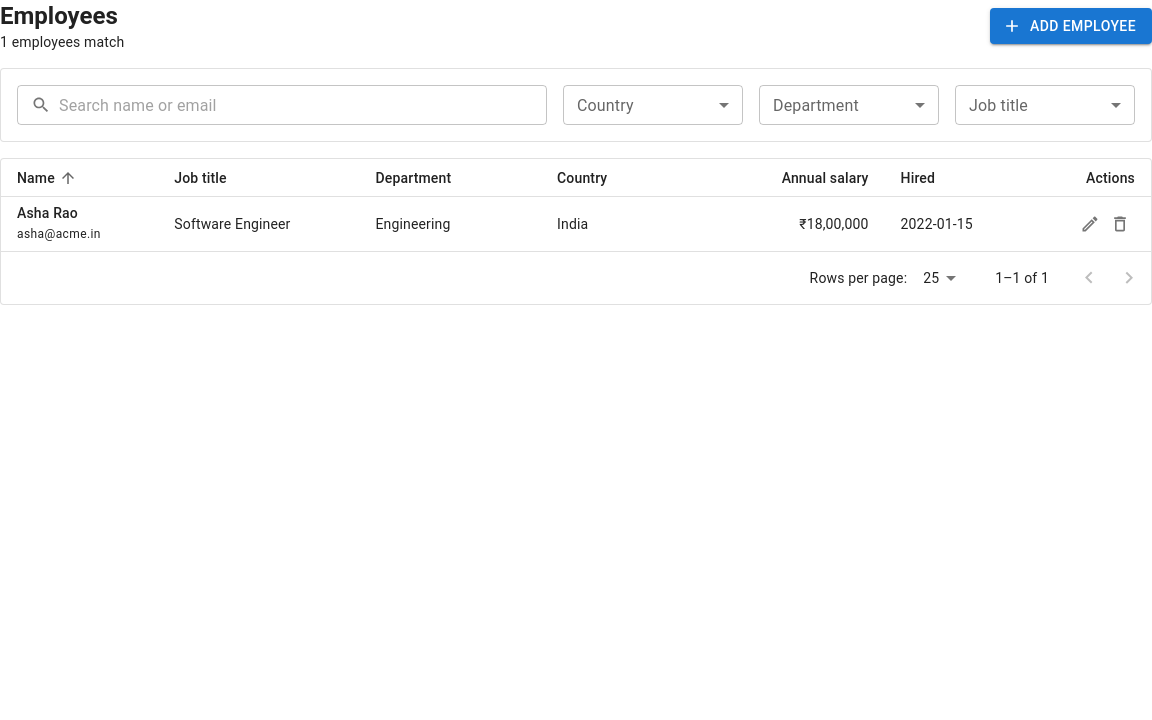
Scenario: EmployeesPage › shows client-side validation errors without calling the API
Click the button "Add employee": click(1071, 26) [990,8,1151,44]
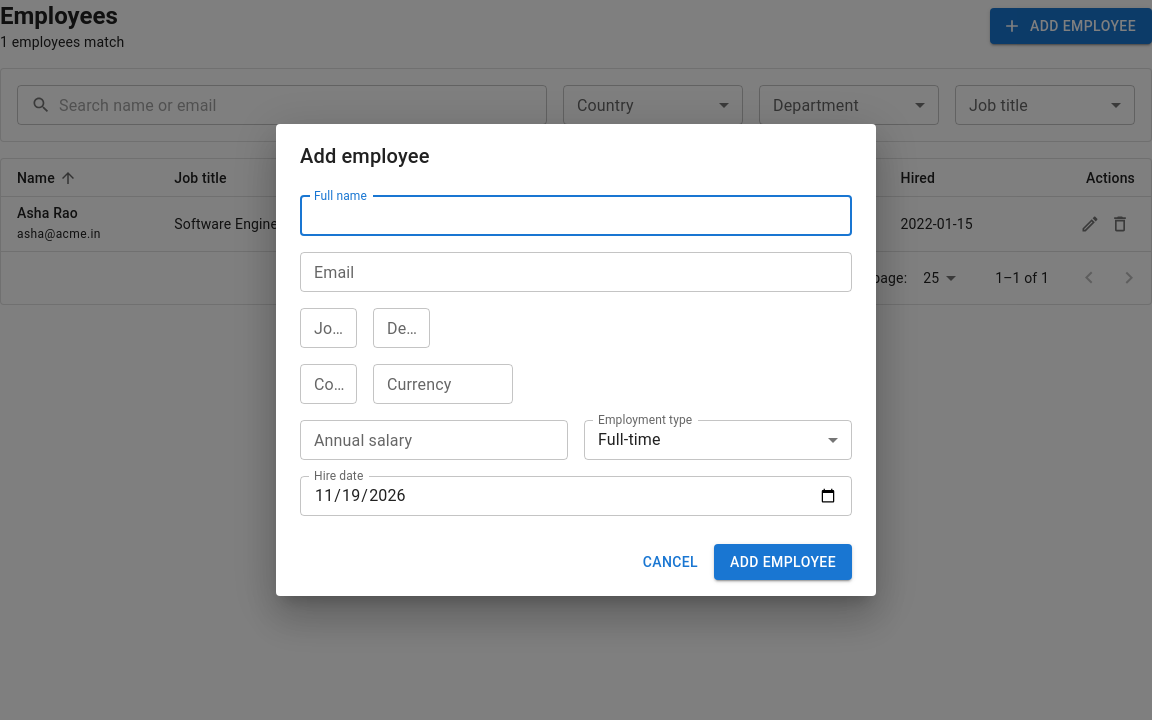
Click the button "Add employee": click(783, 562) [714,544,852,580]
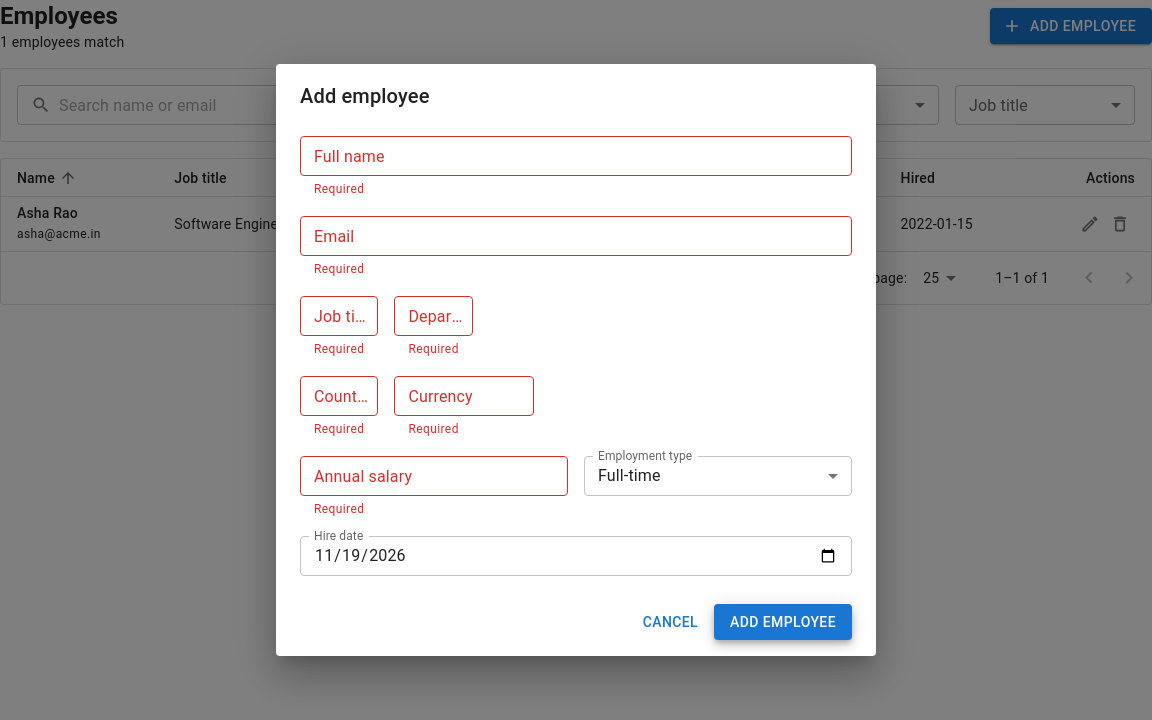
Result: the text "Required" below "Full name" is shown at [314,182,364,196]
